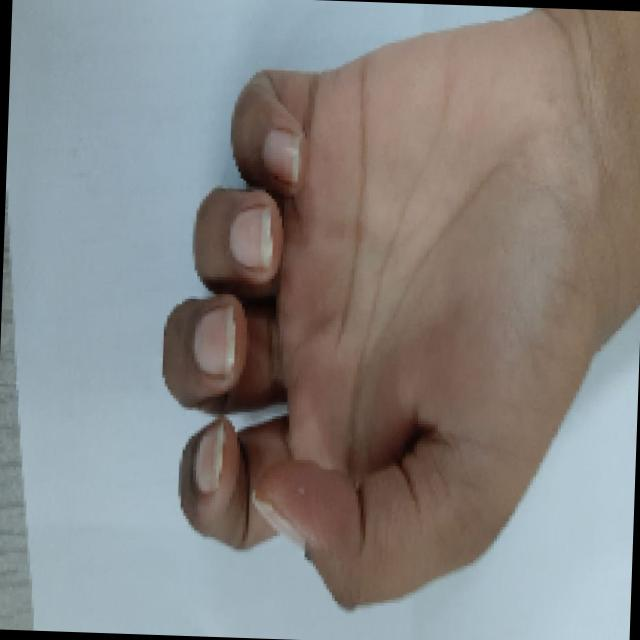Nail: (250, 490, 304, 546), (192, 306, 234, 377), (228, 208, 270, 268), (260, 128, 300, 185), (193, 420, 224, 492)
